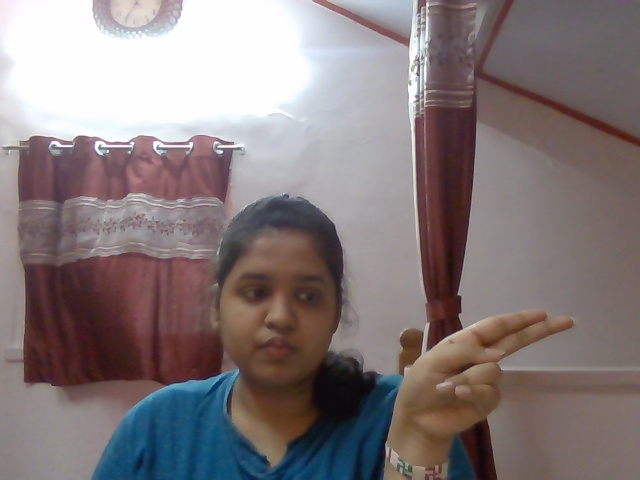h: (387, 302, 593, 431)
